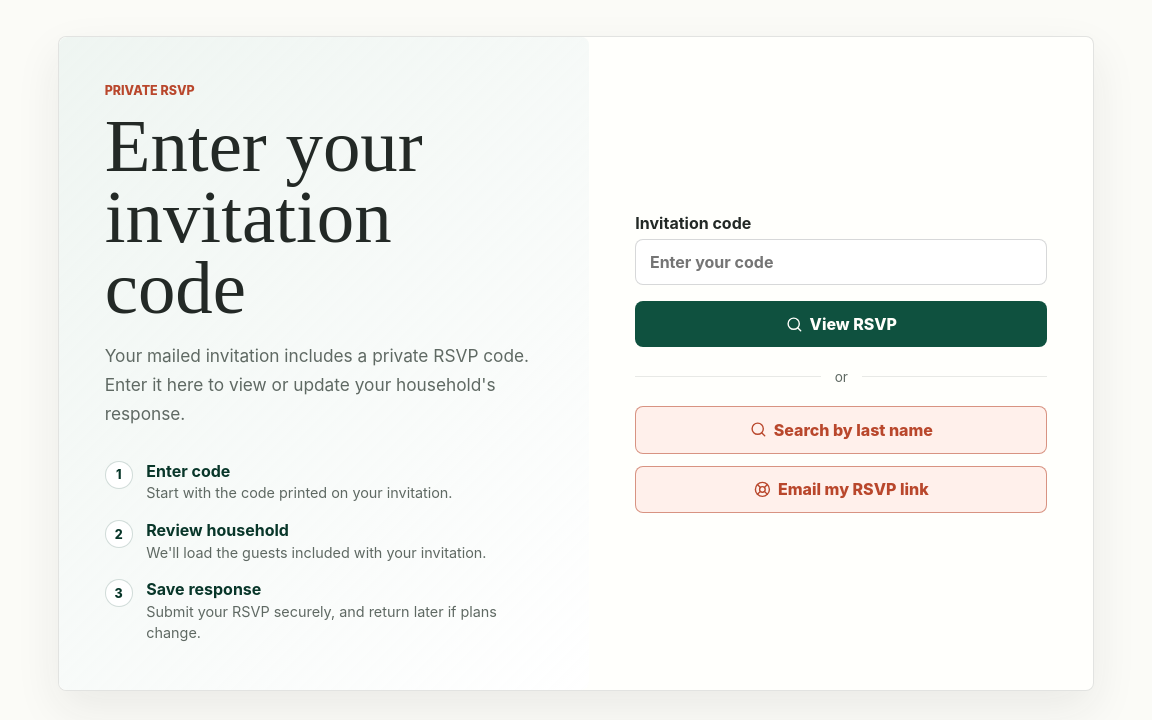
Scenario: RsvpLookupPage › keeps both assistance panels collapsed by default and expands search with focus
Expected: the field labelled "Household last name" is not shown
Click the button "Search by last name" at point(841, 430), box [635,406,1047,454]
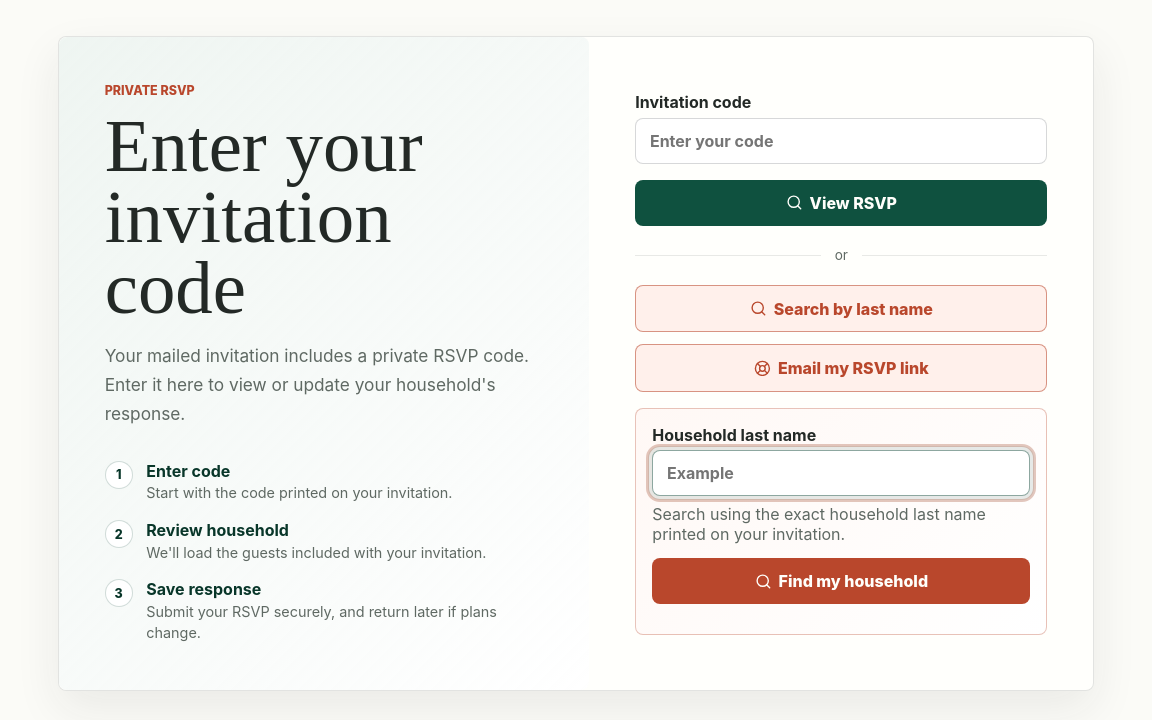
Now the text "Search using the exact household last name printed on your invitation." is shown, box [652,504,1030,544]
Now the button "Search by last name" is expanded, box [635,285,1047,332]
